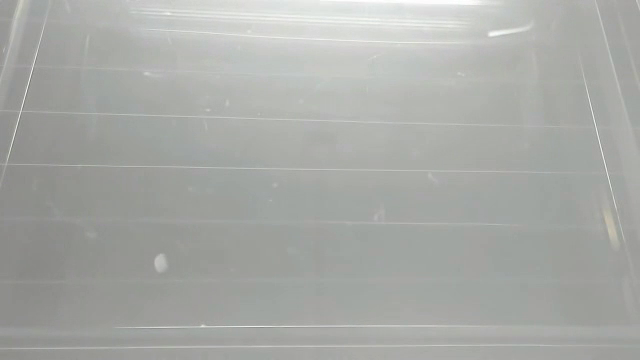alpha: (484, 18, 538, 42), (152, 250, 174, 278)
